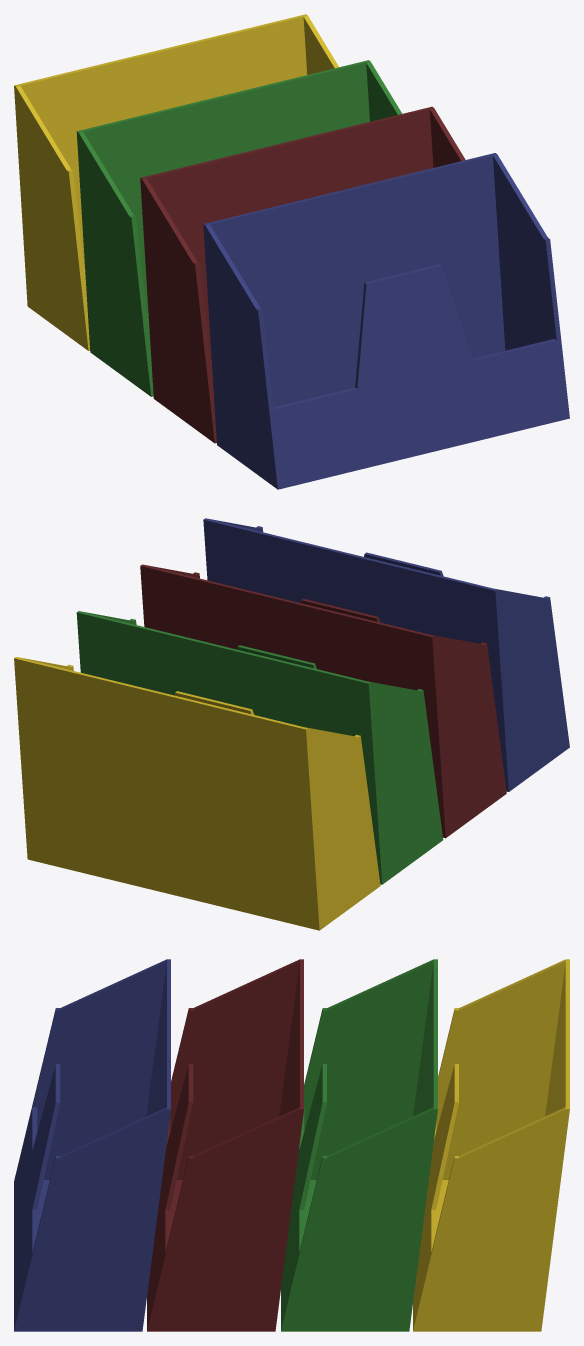
File: FloppyOrganiserInsert.fbx
3 renders of one model, top to bottom at view 1: azimuth 30°, elevation 25°; view 2: azimuth 150°, elevation 25°; view 3: azimuth 270°, elevation 25°, orthographic. The views are drawn at different scales.
Parts seen in each view (by area): view 1: FloppyOrganisers; view 2: FloppyOrganisers; view 3: FloppyOrganisers.
Part boxes in pixels (<box>): FloppyOrganisers: <box>14,14,569,489</box>; FloppyOrganisers: <box>14,518,569,930</box>; FloppyOrganisers: <box>14,959,569,1331</box>.
Bounding box in the file's own units: 14.25 × 9.84 × 22.31.
